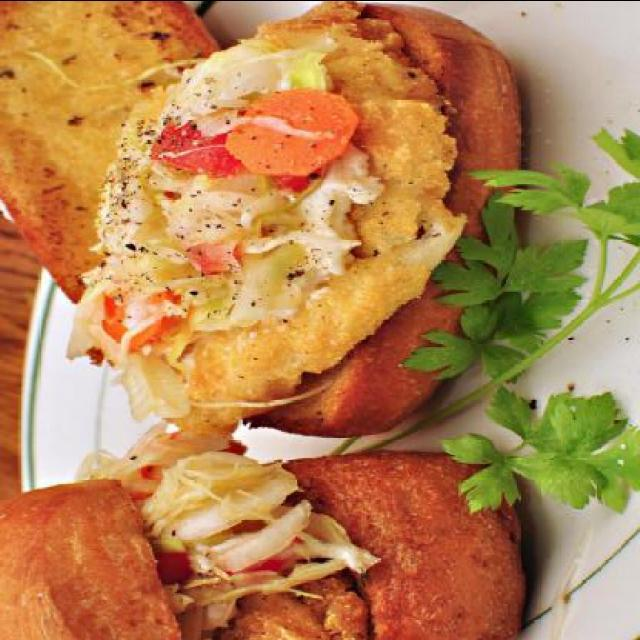Bread: (244, 1, 522, 439), (1, 1, 224, 304), (285, 448, 529, 640), (0, 478, 186, 640)
